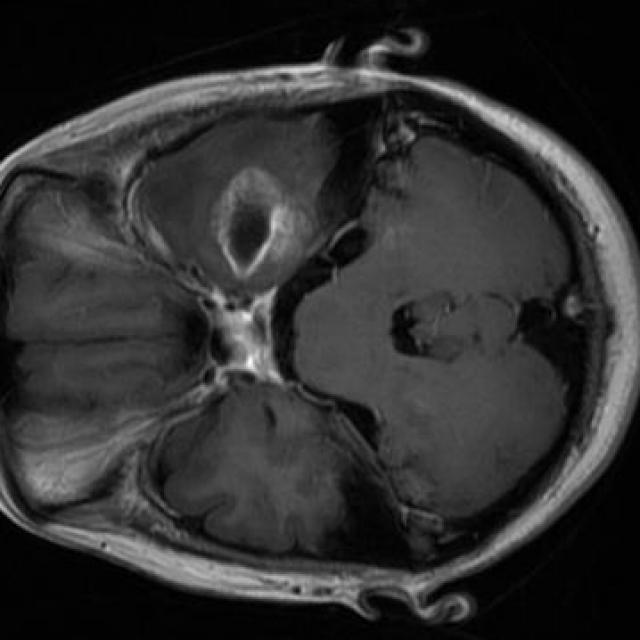glioma: (209, 168, 314, 283)
